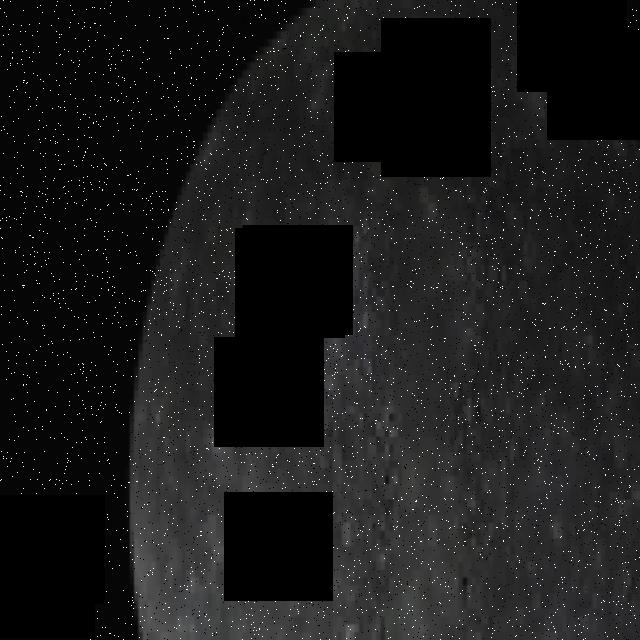Mercury: (126, 0, 640, 640)
